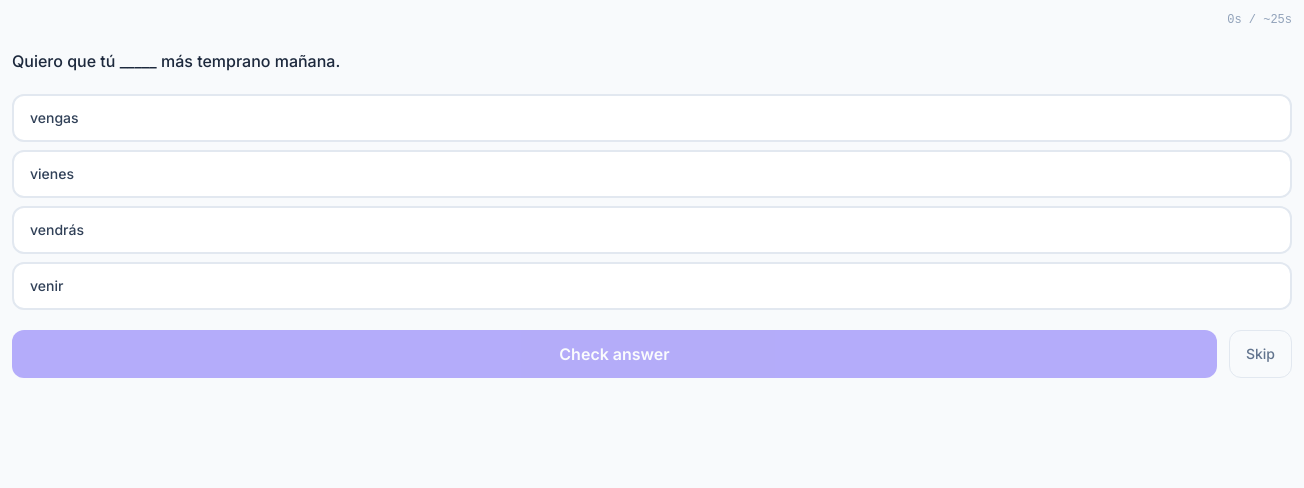
Test: ExerciseRenderer — multiple choice › shows feedback after selecting an answer and clicking Check
The image size is (1304, 488).
Click the radio button labelled "vengas".
click(54, 118)  # box [12,94,1292,142]
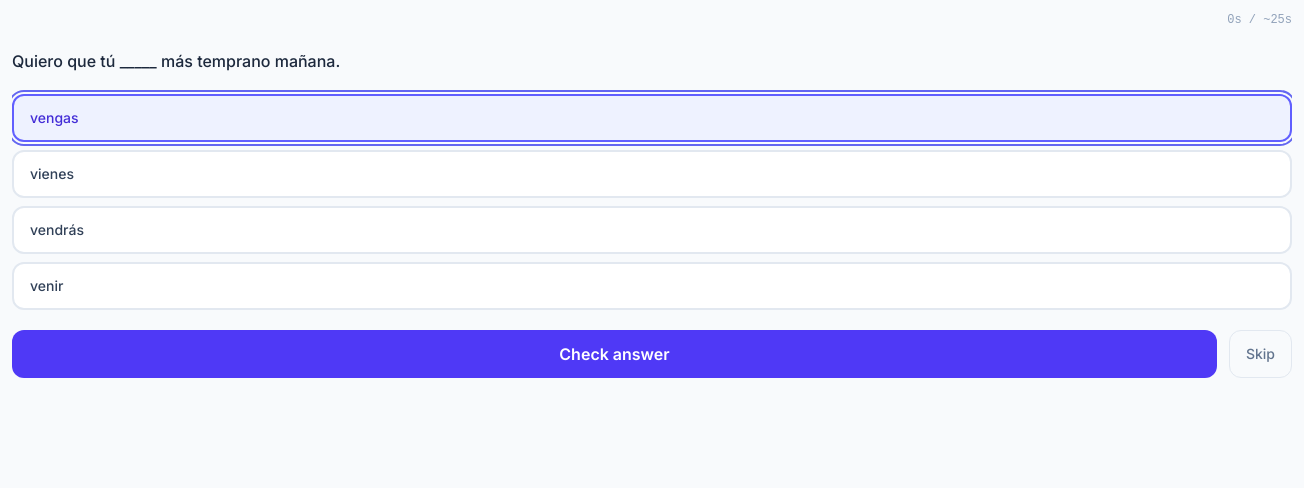
Click the button "Check answer".
click(614, 354)  # box [12,330,1217,378]
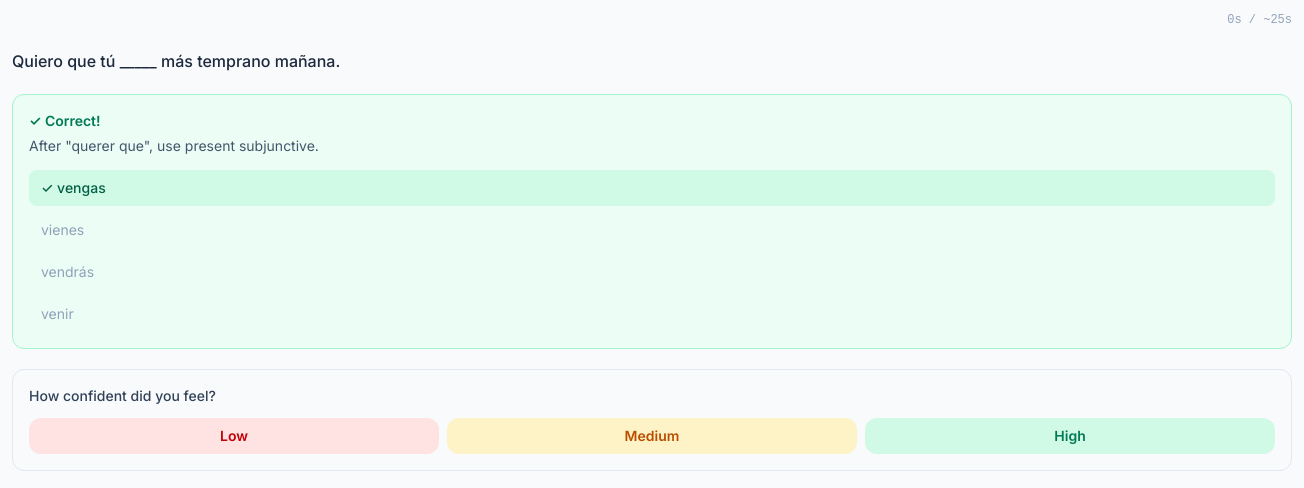
Check: the element with test id "exercise-feedback" is shown, box [12,94,1292,349]
Check: the text "✓ Correct!" is shown, box [29,112,101,129]
Check: the text "After \"querer que\", use present subjunctive." is shown, box [29,137,319,154]
